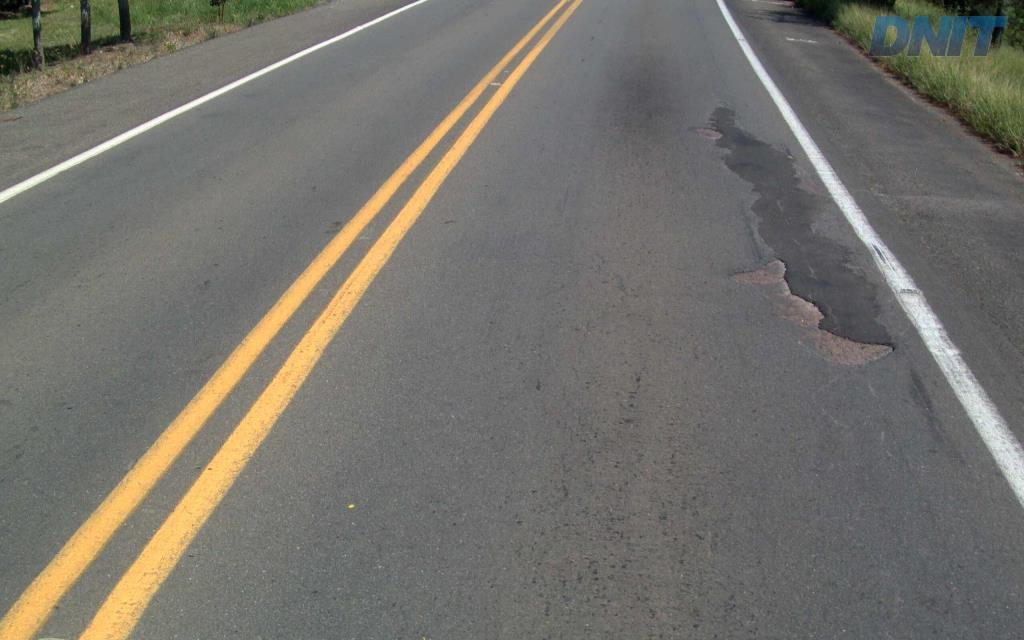pothole: (721, 253, 902, 372)
